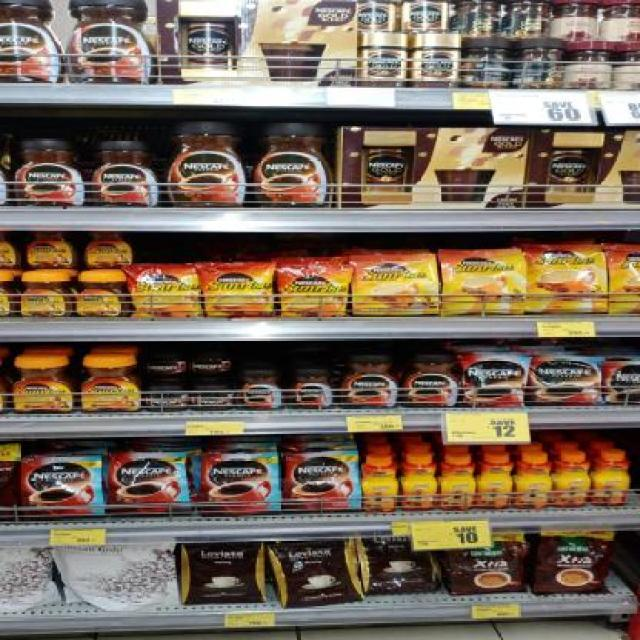Coffee: (65, 0, 154, 82), (171, 122, 247, 208), (255, 125, 331, 207), (524, 247, 607, 314), (441, 251, 525, 315), (0, 0, 63, 83), (351, 257, 438, 316), (110, 453, 190, 515), (201, 453, 280, 515), (21, 458, 103, 516), (13, 139, 84, 205), (91, 141, 157, 205), (287, 454, 359, 512), (9, 360, 75, 414), (131, 266, 199, 318), (204, 265, 272, 317), (79, 359, 142, 413), (531, 356, 601, 404), (281, 267, 347, 316), (463, 355, 521, 406), (403, 357, 455, 407), (342, 358, 394, 407), (362, 33, 406, 87), (76, 273, 128, 317), (414, 35, 458, 87), (18, 275, 72, 317), (400, 458, 438, 508), (553, 456, 590, 507), (478, 457, 514, 508), (364, 458, 398, 510), (596, 454, 630, 505), (515, 457, 548, 509), (443, 459, 476, 510), (28, 232, 75, 266), (292, 372, 334, 409), (239, 371, 279, 409), (86, 233, 132, 265), (147, 387, 187, 409), (146, 354, 184, 375), (195, 387, 231, 408), (191, 356, 227, 374)
